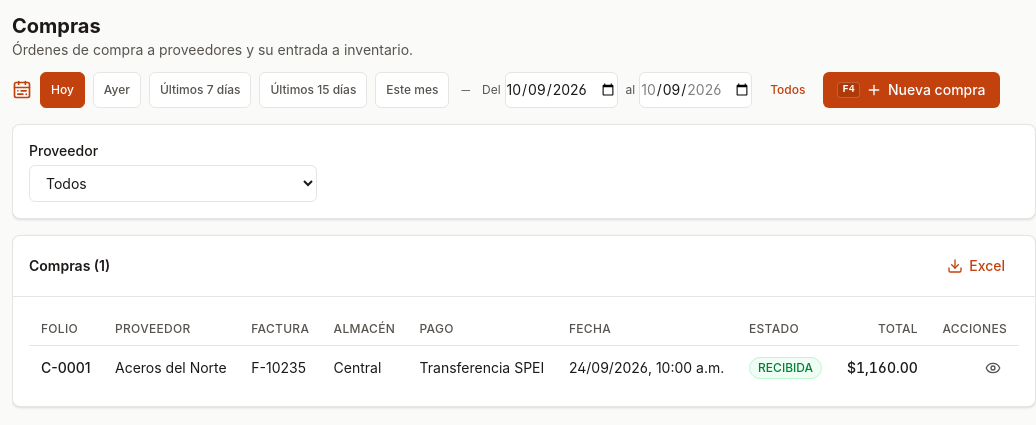
Test: ComprasPage (profundización) › filtra por proveedor y ofrece Limpiar
Step 1. Select "Aceros del Norte" in the dropdown labelled "Proveedor" → coordinates (173, 184), box 29,165 -> 317,202
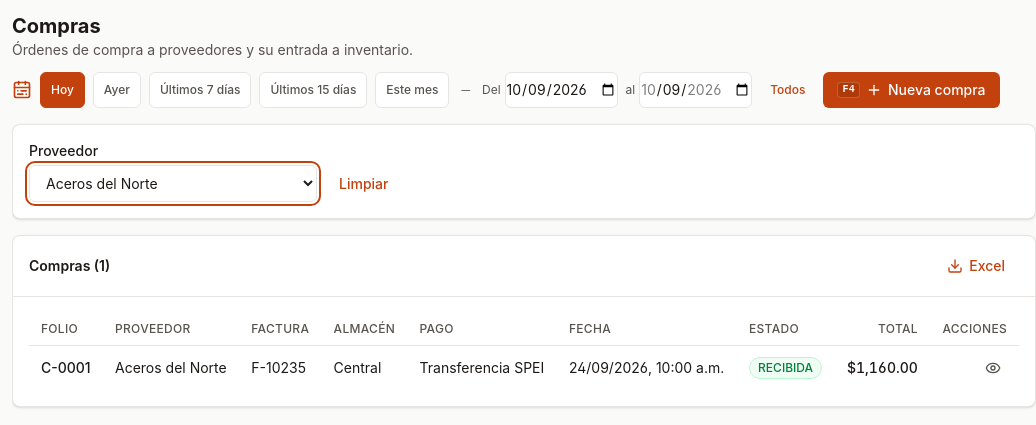
Expected: the button "Limpiar" is shown
Step 2. Click the button "Limpiar" → coordinates (364, 184), box 325,166 -> 402,202
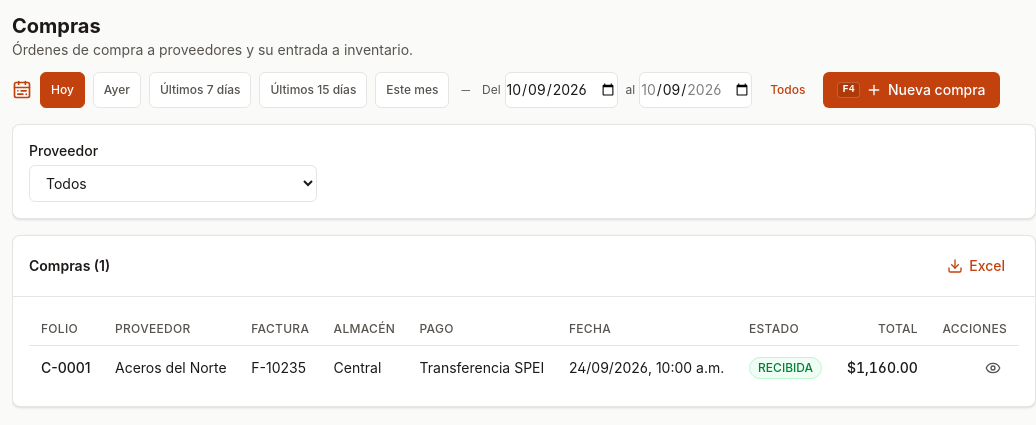
Expected: the button "Limpiar" is gone
